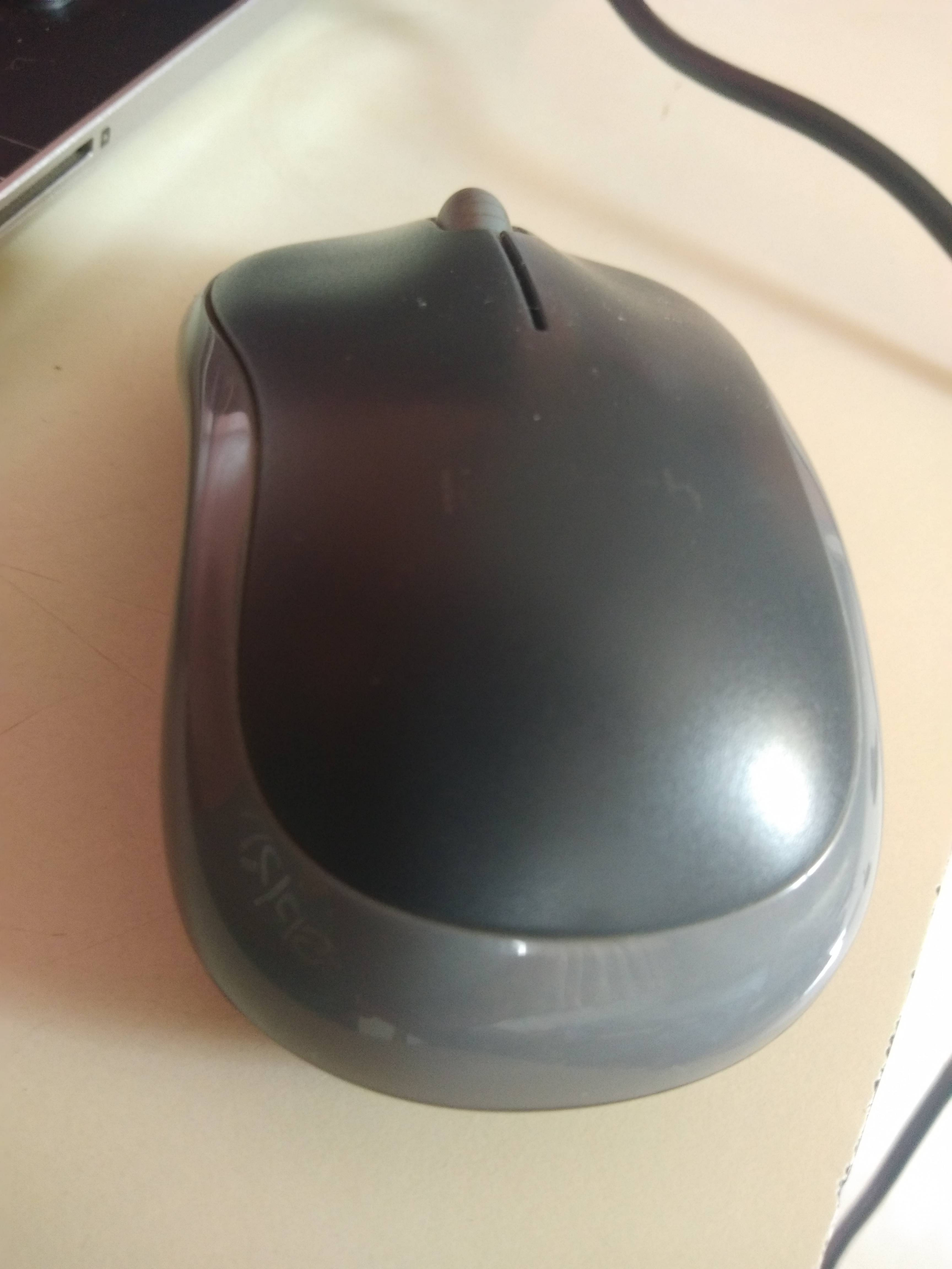Electronics: (105, 148, 902, 1175)
